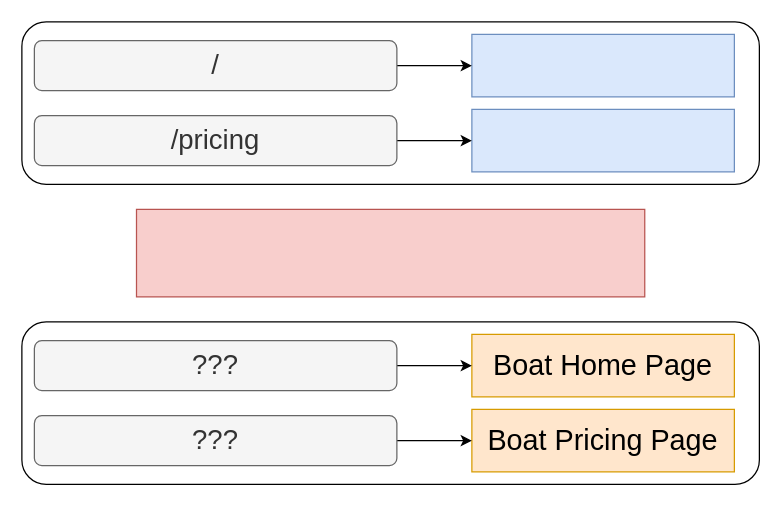
Image size: 781x506. Some labels were removed from this diagram. The shapes that lost their labels are listed below. From the top down, each one's centre as x and y in pixels, then its label:
the point at 602,65: Marketing Home Page
the point at 602,140: Marketing Pricing Page
the point at 390,252: What URLs should we use for the new pages?
